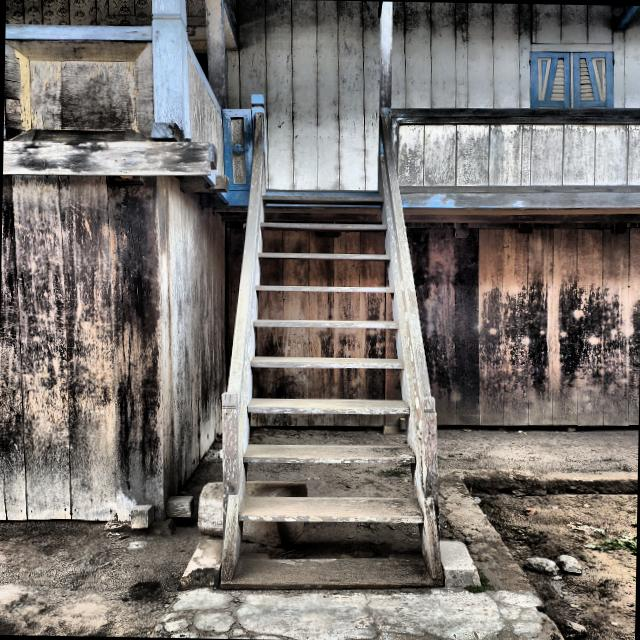ornamen: (3, 38, 152, 142)
stair: (220, 112, 444, 587)
wall: (0, 174, 244, 520), (225, 0, 640, 189), (403, 213, 640, 425)
window: (529, 51, 613, 107)
